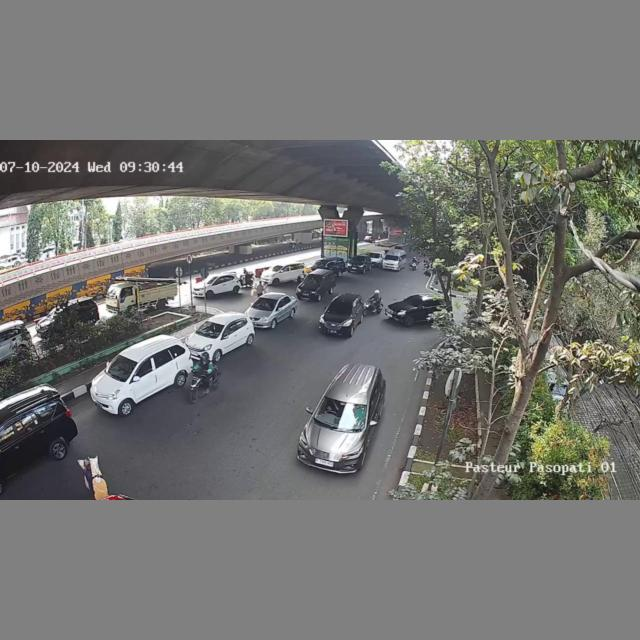windshield: (319, 398, 368, 428), (107, 354, 136, 380), (326, 299, 352, 316), (197, 322, 223, 337), (253, 297, 278, 311)
